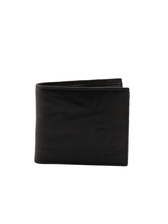other: (29, 78, 135, 169)
